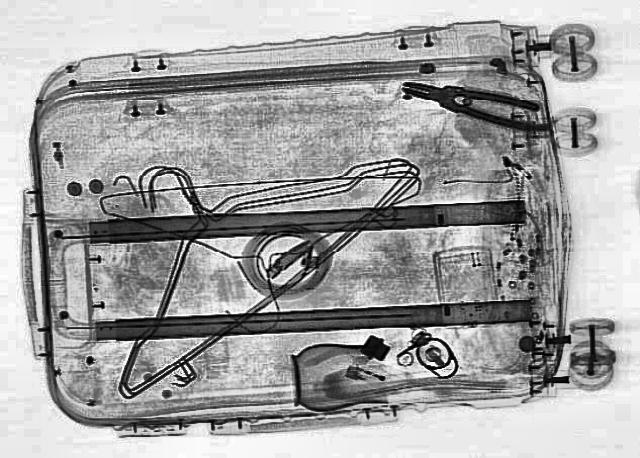Pliers: (395, 72, 557, 134)
